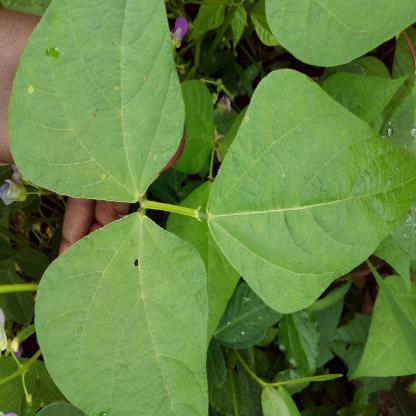Beans_Rust: (203, 74, 416, 307), (37, 217, 223, 416), (8, 0, 184, 206)
